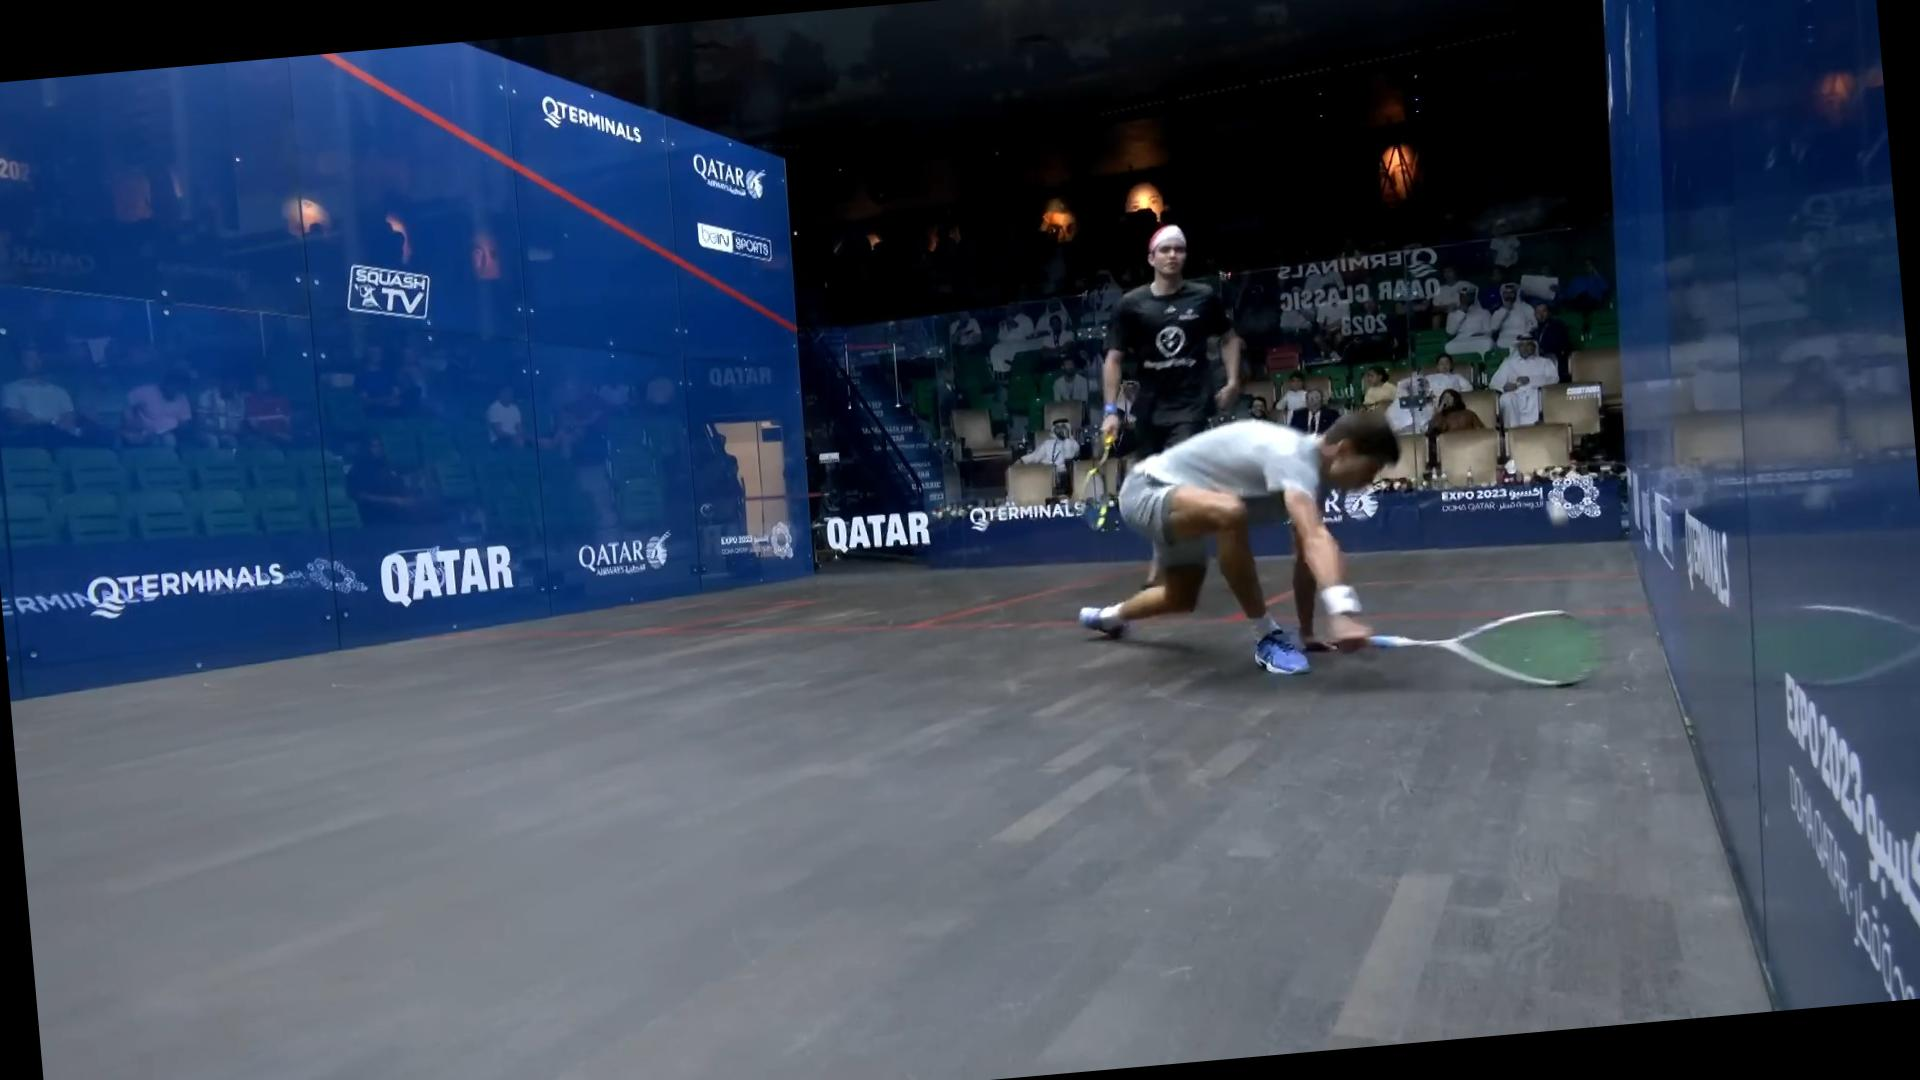Racket: (1374, 599, 1605, 705), (1065, 434, 1131, 534)
